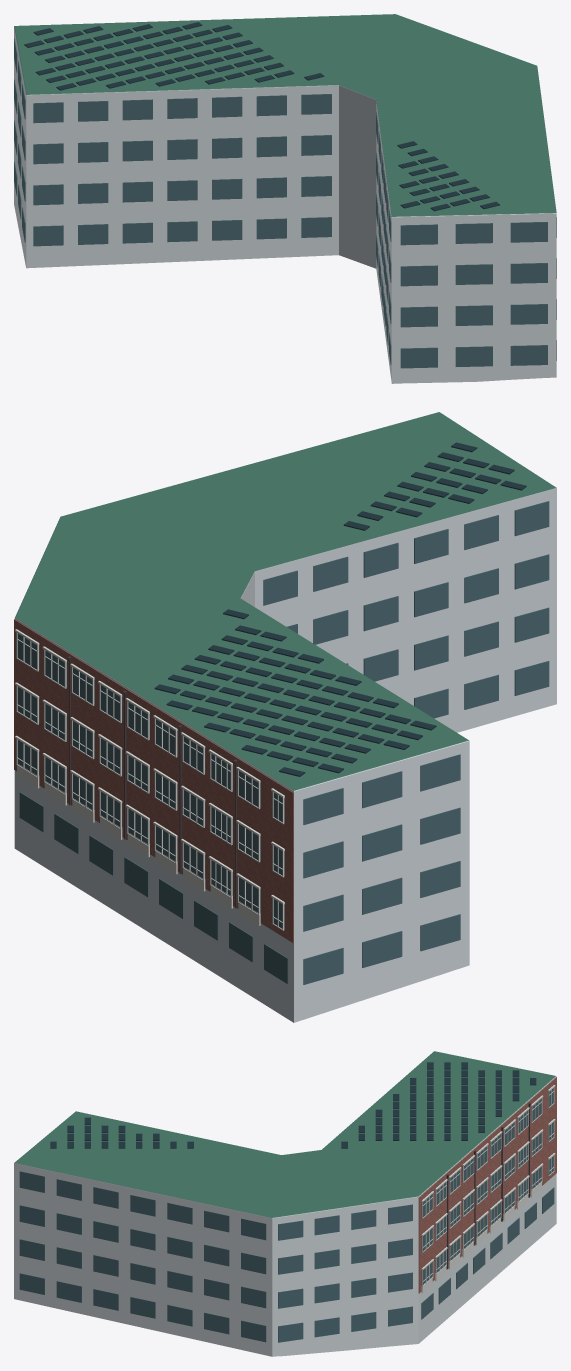
Rendered from intact.glb.
The picture shows the model from 3 angles, top to bottom: view 1: azimuth 30°, elevation 25°; view 2: azimuth 150°, elevation 25°; view 3: azimuth 270°, elevation 25°; orthographic projection. The views are drawn at different scales.
Visible parts, largest first — view 1: SM_468931905_Intact_00, SM_468931905_Intact_01, SM_468931905_Intact_02; view 2: SM_468931905_Intact_00, SM_468931905_Intact_01, SM_468931905_Intact_03, SM_468931905_Intact_02, SM_468931905_Intact_04, SM_468931905_Intact_05, SM_468931905_Intact_08, SM_468931905_Intact_06, SM_468931905_Intact_09, SM_468931905_Intact_07; view 3: SM_468931905_Intact_00, SM_468931905_Intact_01, SM_468931905_Intact_03, SM_468931905_Intact_02, SM_468931905_Intact_04, SM_468931905_Intact_05, SM_468931905_Intact_08, SM_468931905_Intact_06, SM_468931905_Intact_09, SM_468931905_Intact_07.
Boxes of the visible parts, x1,y1,x2,y2 form: SM_468931905_Intact_00: (14, 14, 556, 383); SM_468931905_Intact_01: (14, 38, 556, 368); SM_468931905_Intact_02: (24, 22, 499, 211); SM_468931905_Intact_00: (14, 412, 556, 1022); SM_468931905_Intact_01: (19, 501, 549, 984); SM_468931905_Intact_03: (14, 619, 293, 943); SM_468931905_Intact_02: (154, 442, 526, 776); SM_468931905_Intact_04: (17, 633, 284, 928); SM_468931905_Intact_05: (16, 632, 284, 930); SM_468931905_Intact_08: (15, 629, 284, 904); SM_468931905_Intact_06: (23, 637, 278, 926); SM_468931905_Intact_09: (17, 763, 260, 925); SM_468931905_Intact_07: (17, 638, 282, 922); SM_468931905_Intact_00: (14, 1051, 556, 1356); SM_468931905_Intact_01: (19, 1171, 554, 1342); SM_468931905_Intact_03: (418, 1077, 556, 1293); SM_468931905_Intact_02: (50, 1062, 536, 1148); SM_468931905_Intact_04: (421, 1088, 553, 1284); SM_468931905_Intact_05: (422, 1087, 554, 1286); SM_468931905_Intact_08: (421, 1085, 555, 1269); SM_468931905_Intact_06: (425, 1089, 551, 1282); SM_468931905_Intact_09: (421, 1181, 541, 1293); SM_468931905_Intact_07: (423, 1091, 554, 1281).
Bounding box in the file's own units: 1.6 × 0.6653 × 2.2.
11 materials, 1 textured.
